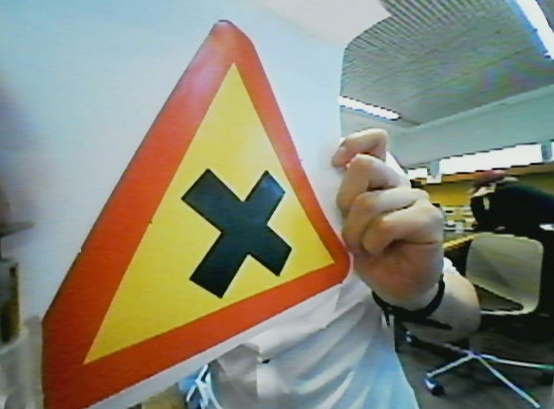junction: (30, 14, 386, 403)
